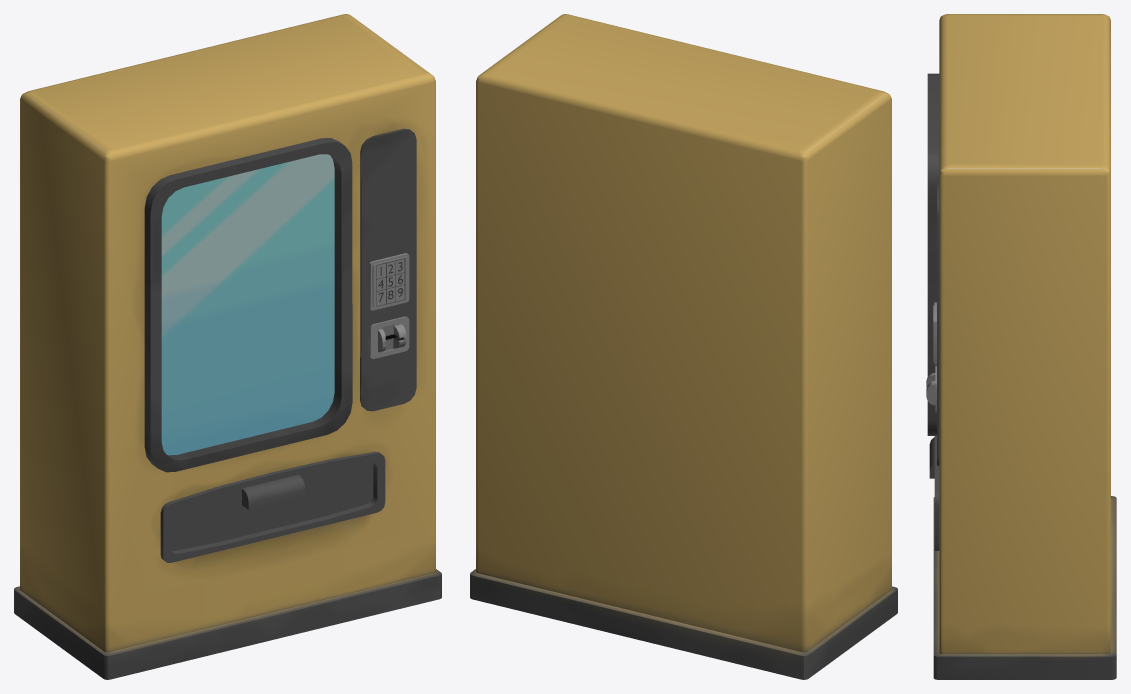
The model's file is vendingMachine.glb.
3 renders of one model, left to right at view 1: azimuth 30°, elevation 25°; view 2: azimuth 150°, elevation 25°; view 3: azimuth 270°, elevation 25°, orthographic. The views are drawn at different scales.
Visible parts, largest first — view 1: VendingMachine_Main, Glass; view 2: VendingMachine_Main; view 3: VendingMachine_Main.
Boxes of the visible parts, x1,y1,x2,y2 form: VendingMachine_Main: (14,14,441,679); Glass: (161,154,334,455); VendingMachine_Main: (470,14,897,679); VendingMachine_Main: (926,14,1116,679).
Size of the model in its own units: 2.17 by 3.21 by 1.09.
4 materials, 1 textured.
